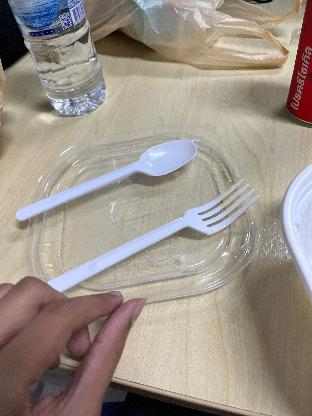Others: (43, 176, 258, 290), (8, 132, 200, 228)
Plastic Bottle: (9, 0, 107, 114)
